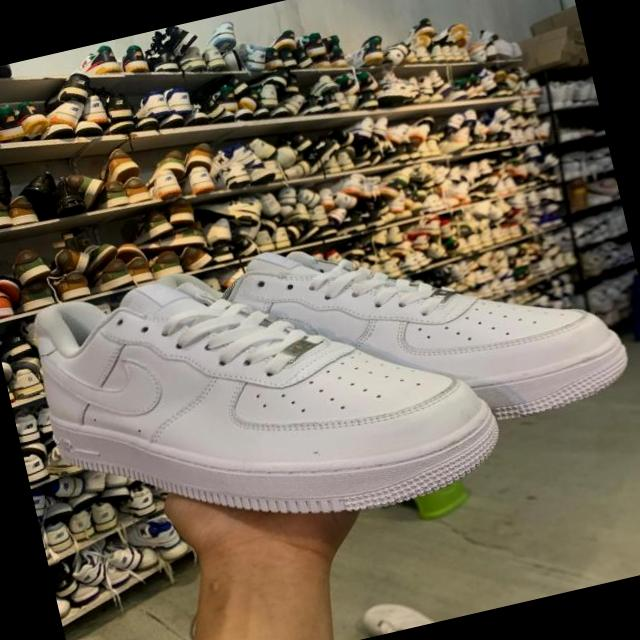nike_fake_airforce: (10, 210, 518, 583), (160, 174, 639, 490)
